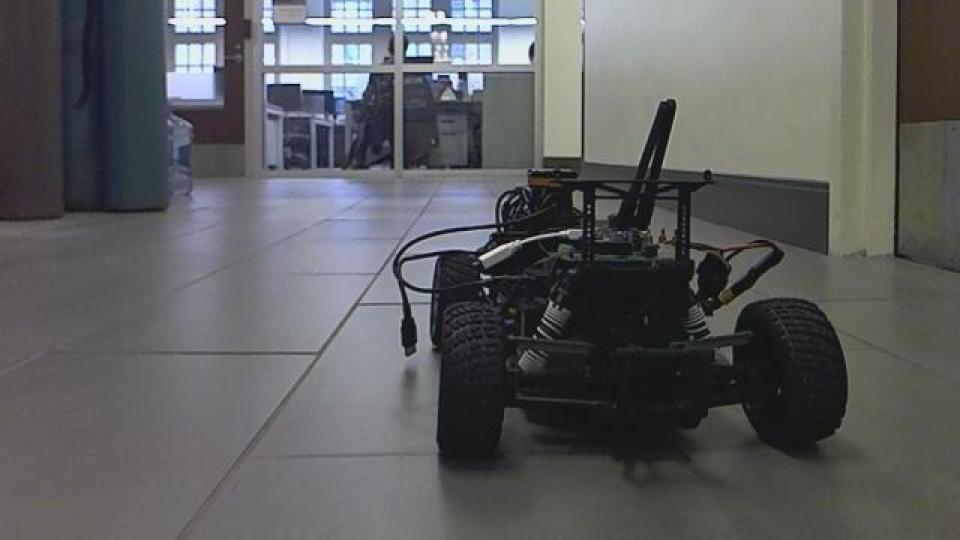car: (390, 96, 850, 464)
